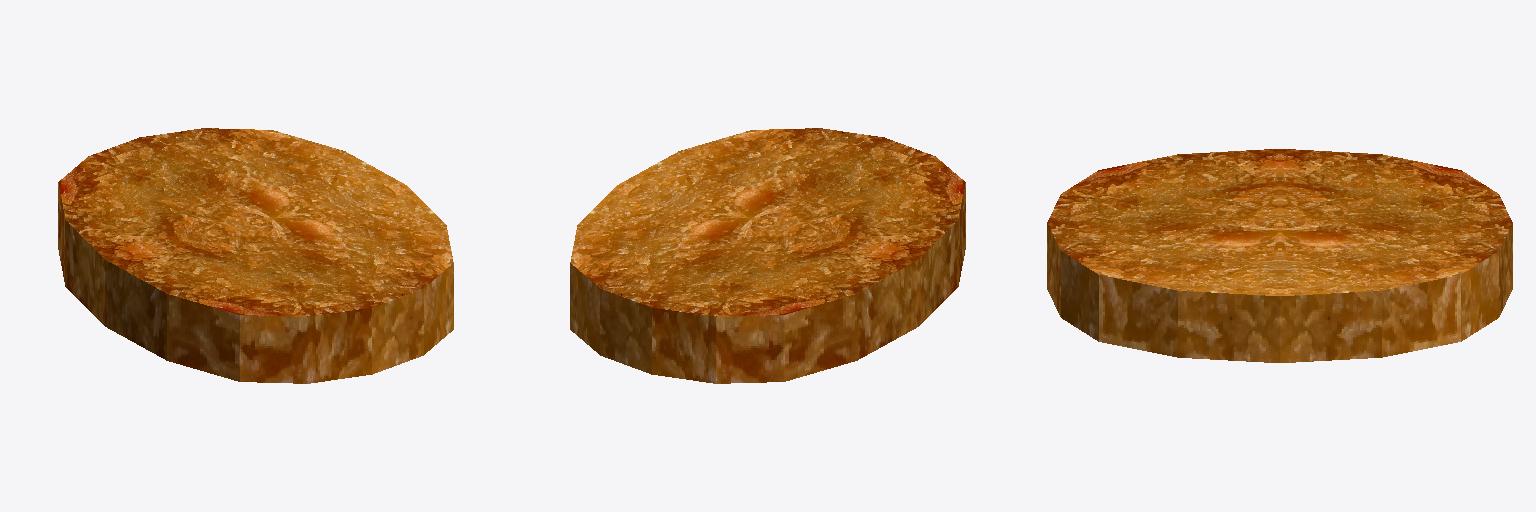
3 renders of one model, left to right at view 1: azimuth 30°, elevation 25°; view 2: azimuth 150°, elevation 25°; view 3: azimuth 270°, elevation 25°, orthographic.
Parts seen in each view (by area): view 1: obj1; view 2: obj1; view 3: obj1.
Boxes of the visible parts, x1=… form: obj1: x1=58, y1=128, x2=453, y2=383; obj1: x1=570, y1=128, x2=965, y2=383; obj1: x1=1047, y1=149, x2=1512, y2=362.
Bounding box in the file's own units: 0.2 × 0.0423 × 0.2662.
Materials: 1 (1 with a texture image).